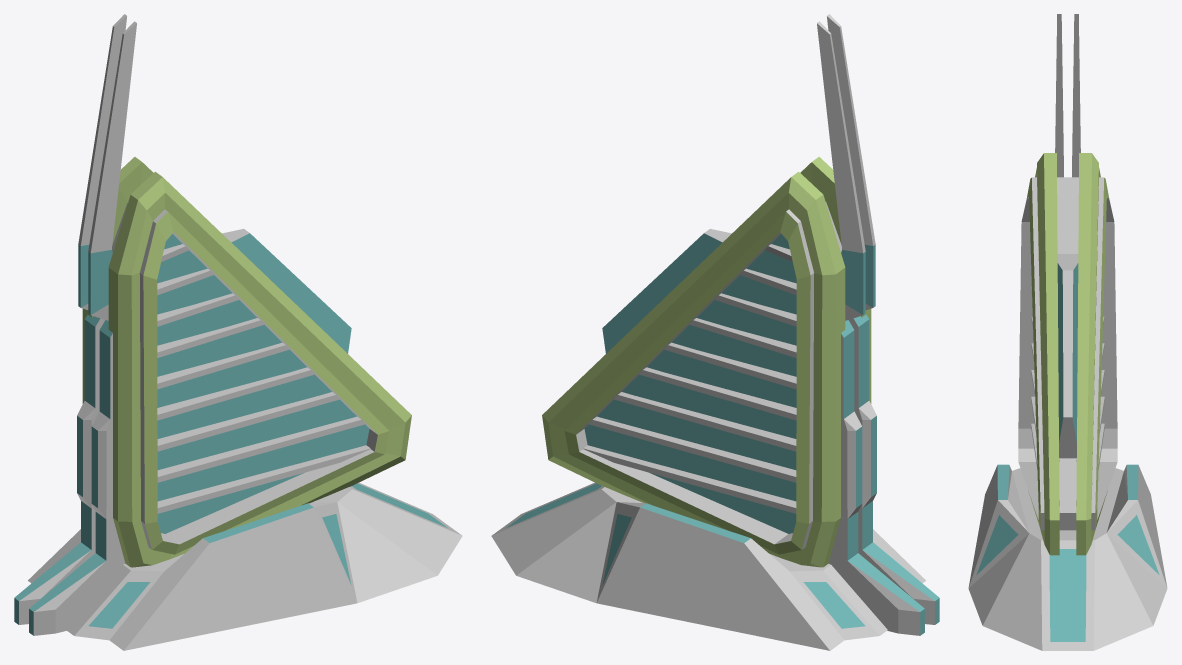
The model's file is settlement_B.fbx.
3 views of the same model, side by side, from view 1: azimuth 30°, elevation 25°; view 2: azimuth 150°, elevation 25°; view 3: azimuth 270°, elevation 25° (orthographic). The views are drawn at different scales.
Parts seen in each view (by area): view 1: settlement_B; view 2: settlement_B; view 3: settlement_B.
Boxes of the visible parts, box(x1,y1,x2,y2) form: settlement_B: box(14, 14, 462, 650); settlement_B: box(491, 14, 939, 650); settlement_B: box(968, 14, 1167, 650).
Size of the model in its own units: 1883 by 2480 by 888.
